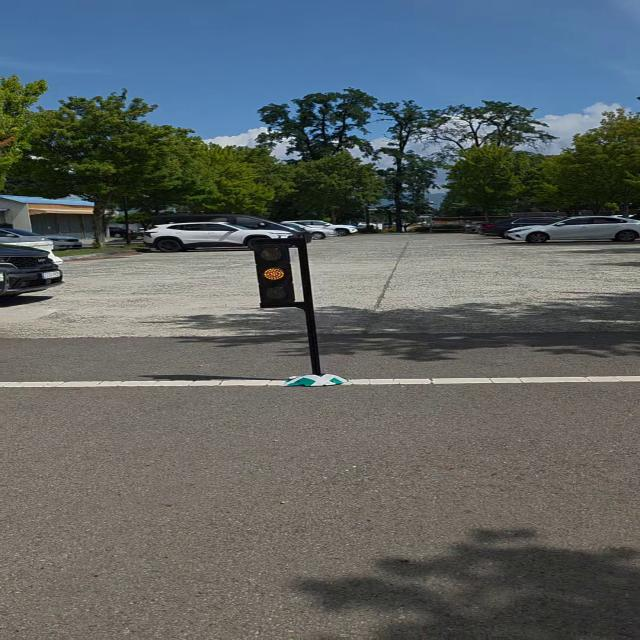yellow: (249, 244, 304, 312)
